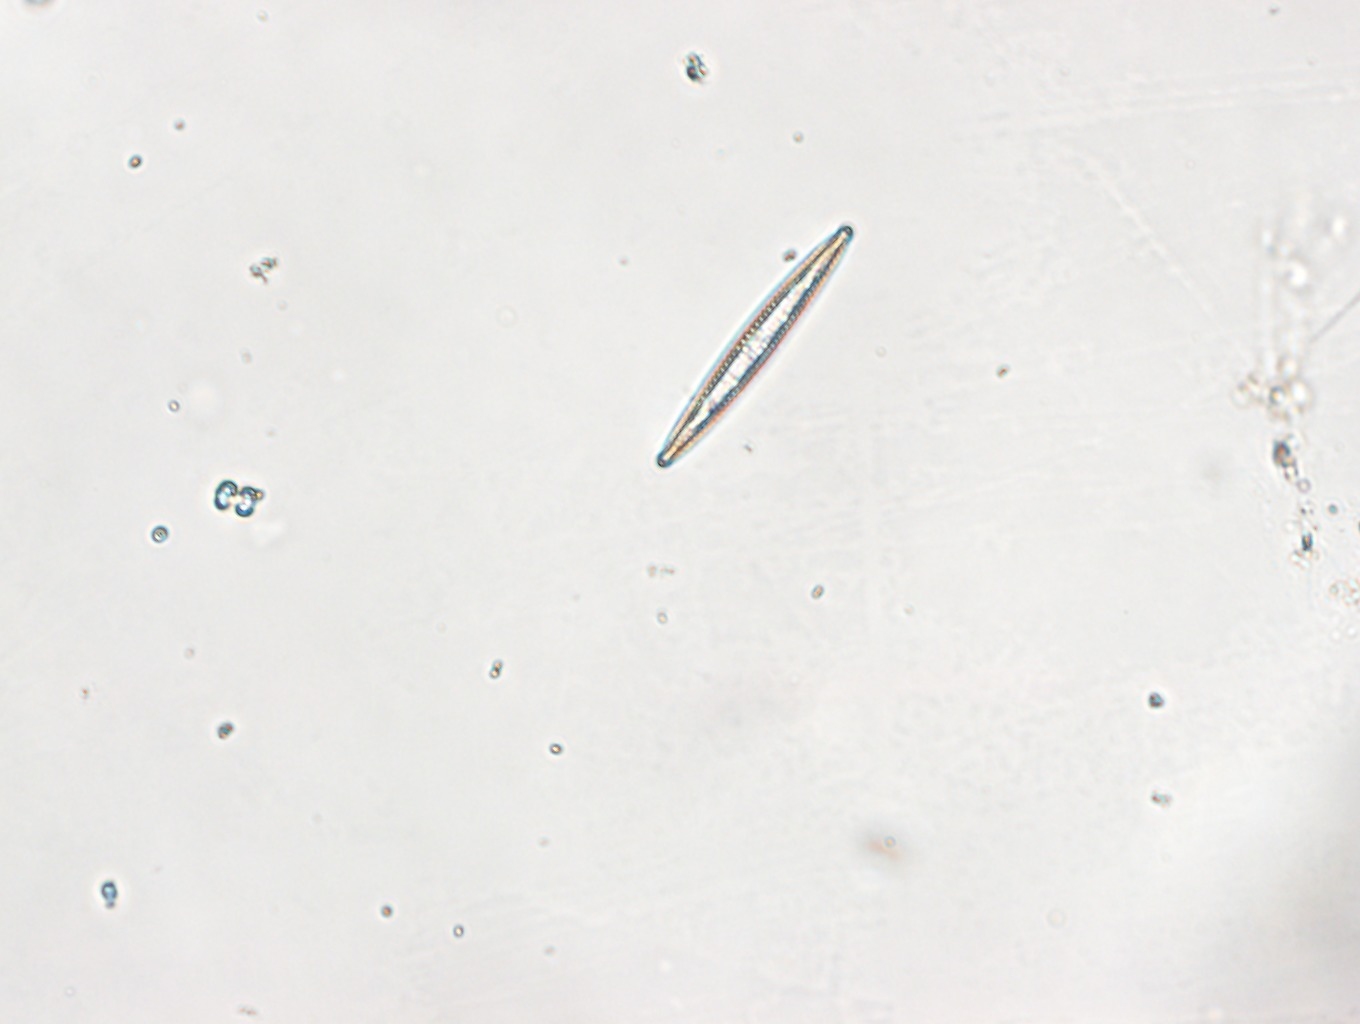navicula: (660, 223, 854, 469)
